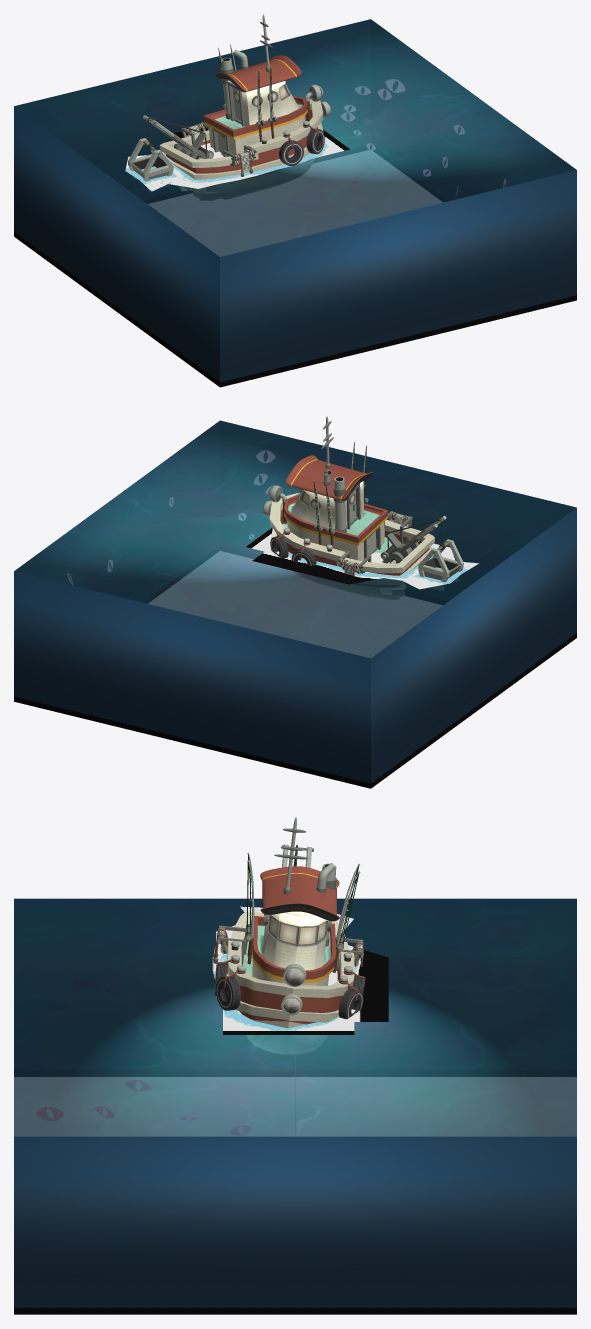
The model's file is Dredge Fan Art.fbx.
3 views of the same model, one above another, from view 1: azimuth 30°, elevation 25°; view 2: azimuth 150°, elevation 25°; view 3: azimuth 270°, elevation 25° (orthographic). The views are drawn at different scales.
Parts seen in each view (by area): view 1: pPlane1, Boat, pCube2, pPlane2, pCube3, pCylinder26, pCylinder45; view 2: pPlane1, pCube2, Boat, pPlane2, pCube3, pCylinder26, pCylinder13; view 3: pPlane1, Boat, pCube2, pPlane2, pCube3, pCylinder49, pCylinder51.
Boxes of the visible parts, <box> form: pPlane1: <box>14,19,576,387</box>; Boat: <box>159,99,323,200</box>; pCube2: <box>203,80,307,156</box>; pPlane2: <box>125,127,349,191</box>; pCube3: <box>214,55,301,92</box>; pCylinder26: <box>128,138,173,190</box>; pCylinder45: <box>279,130,303,165</box>; pPlane1: <box>14,420,576,788</box>; pCube2: <box>282,481,403,560</box>; Boat: <box>269,493,434,599</box>; pPlane2: <box>246,527,478,589</box>; pCube3: <box>286,455,372,500</box>; pCylinder26: <box>418,539,463,590</box>; pCylinder13: <box>333,476,346,532</box>; pPlane1: <box>14,898,576,1314</box>; Boat: <box>226,911,354,1053</box>; pCube2: <box>243,911,336,985</box>; pPlane2: <box>212,906,388,1034</box>; pCube3: <box>260,866,339,921</box>; pCylinder49: <box>216,965,245,1010</box>; pCylinder51: <box>338,975,363,1019</box>.
Size of the model in its own units: 40.08 by 28.75 by 40.08.
23 materials, 23 textured.
